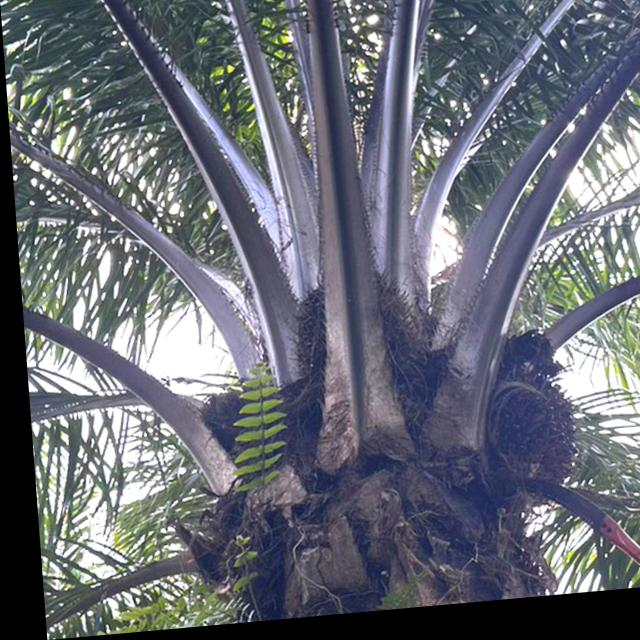unripe: (272, 257, 431, 441)
